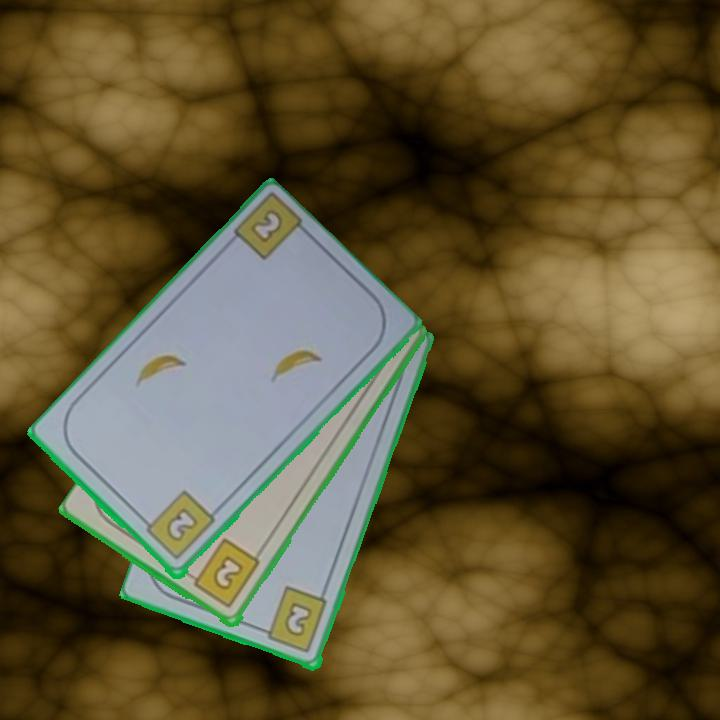2b: (137, 487, 218, 564), (183, 536, 263, 612), (256, 584, 331, 656), (246, 203, 286, 247)
